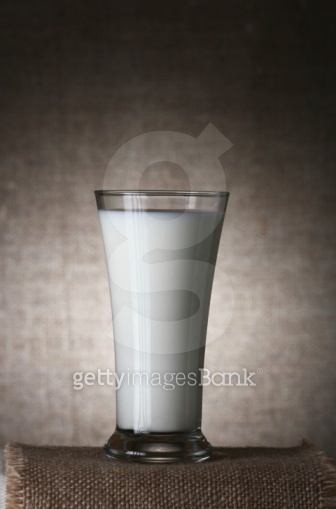glass of milk: (92, 185, 226, 459)
